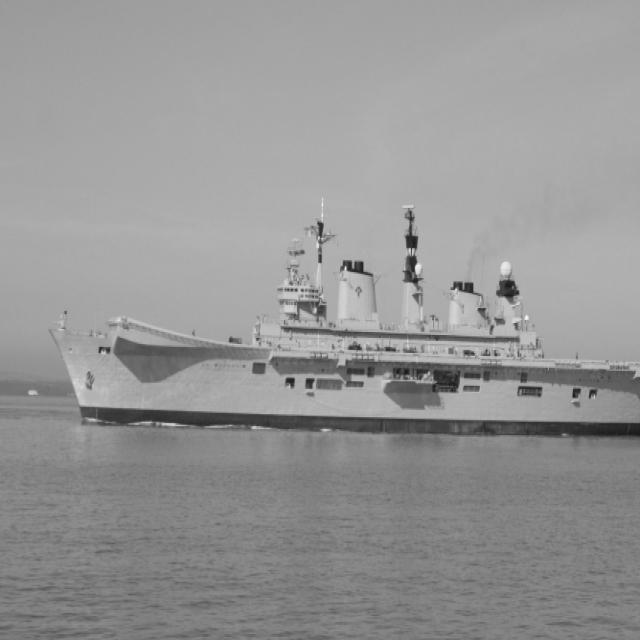Portanaves: (41, 197, 640, 441)
